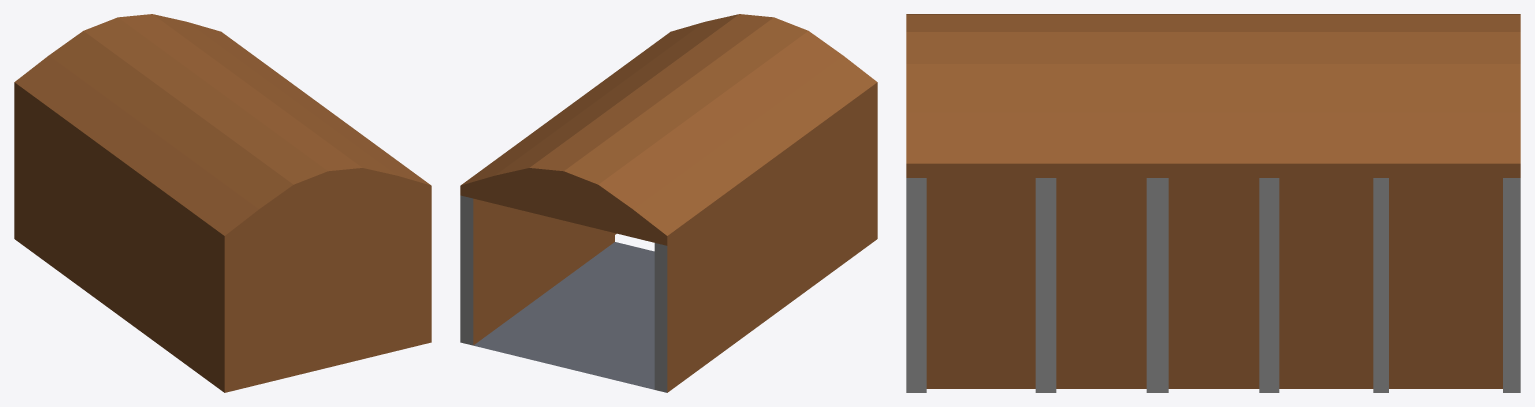
The model's file is Train house.fbx.
3 views of the same model, side by side, from view 1: azimuth 30°, elevation 25°; view 2: azimuth 150°, elevation 25°; view 3: azimuth 270°, elevation 25° (orthographic). The views are drawn at different scales.
Parts seen in each view (by area): view 1: Train house; view 2: Train house; view 3: Train house.
Part boxes in pixels (bbox=[...]): Train house: bbox=[14, 14, 431, 392]; Train house: bbox=[460, 14, 877, 392]; Train house: bbox=[906, 14, 1520, 392].
Bounding box in the file's own units: 0.692 × 0.6279 × 1.22.
